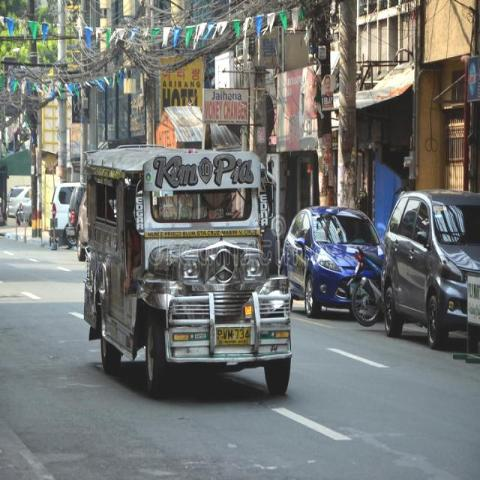car: (381, 182, 480, 358), (276, 204, 385, 319)
jeepney: (82, 135, 293, 396)
